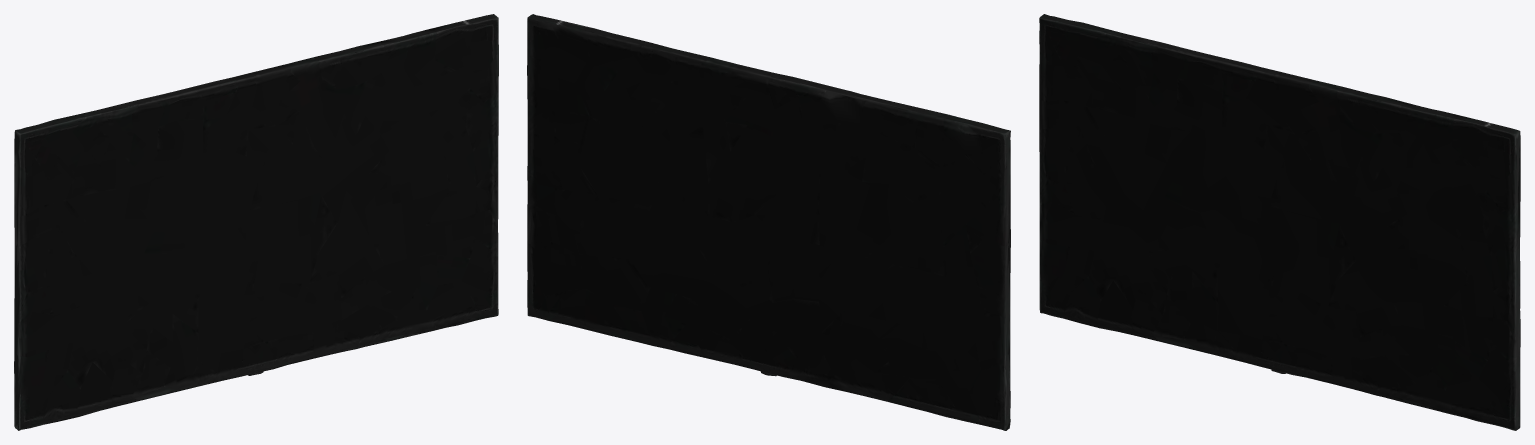
The model's file is flat-tv.glb.
3 renders of one model, left to right at view 1: azimuth 30°, elevation 25°; view 2: azimuth 150°, elevation 25°; view 3: azimuth 330°, elevation 25°, orthographic.
Size of the model in its own units: 1 by 0.6015 by 0.0244.
1 material, 1 textured.
